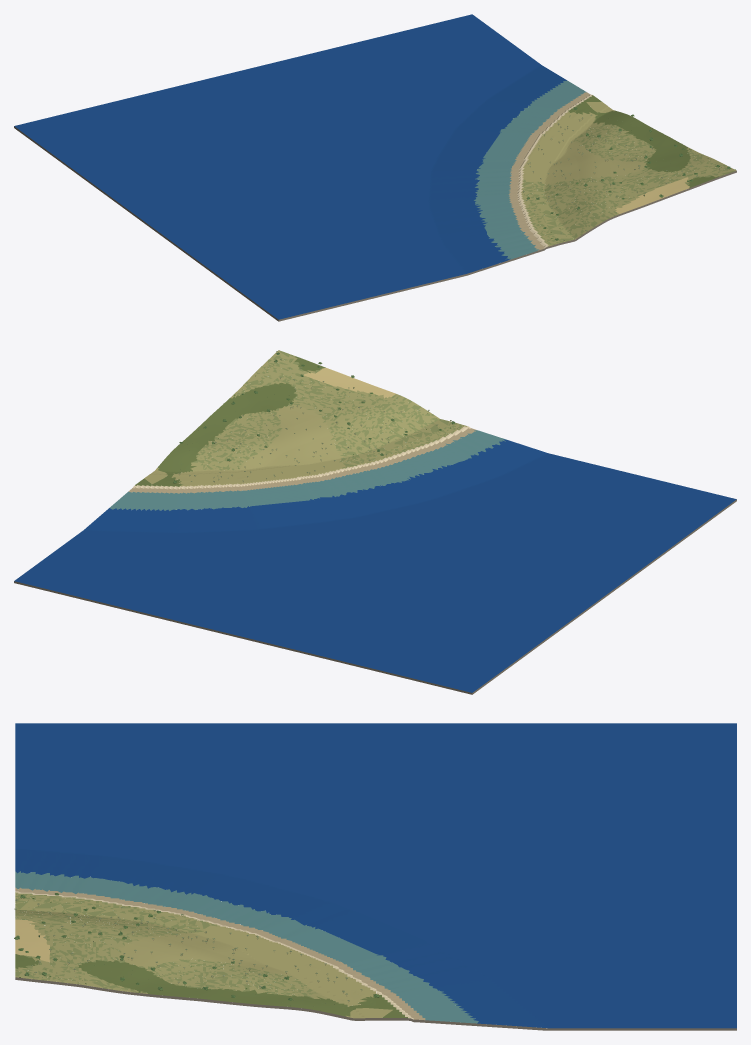
File: parca_-1_+2-yakin.glb
3 renders of one model, top to bottom at view 1: azimuth 30°, elevation 25°; view 2: azimuth 150°, elevation 25°; view 3: azimuth 270°, elevation 25°, orthographic. The views are drawn at different scales.
Visible parts, largest first — view 1: parca_-1_+2_arazi, parca_-1_+2_bitkiler; view 2: parca_-1_+2_arazi, parca_-1_+2_bitkiler; view 3: parca_-1_+2_arazi, parca_-1_+2_bitkiler.
Boxes of the visible parts, <box> form: parca_-1_+2_arazi: <box>14,14,736,321</box>; parca_-1_+2_bitkiler: <box>523,107,735,243</box>; parca_-1_+2_arazi: <box>14,350,736,694</box>; parca_-1_+2_bitkiler: <box>163,351,457,483</box>; parca_-1_+2_arazi: <box>15,723,736,1030</box>; parca_-1_+2_bitkiler: <box>14,893,379,1010</box>.
Bounding box in the file's own units: 1001 × 86.2 × 1002.
